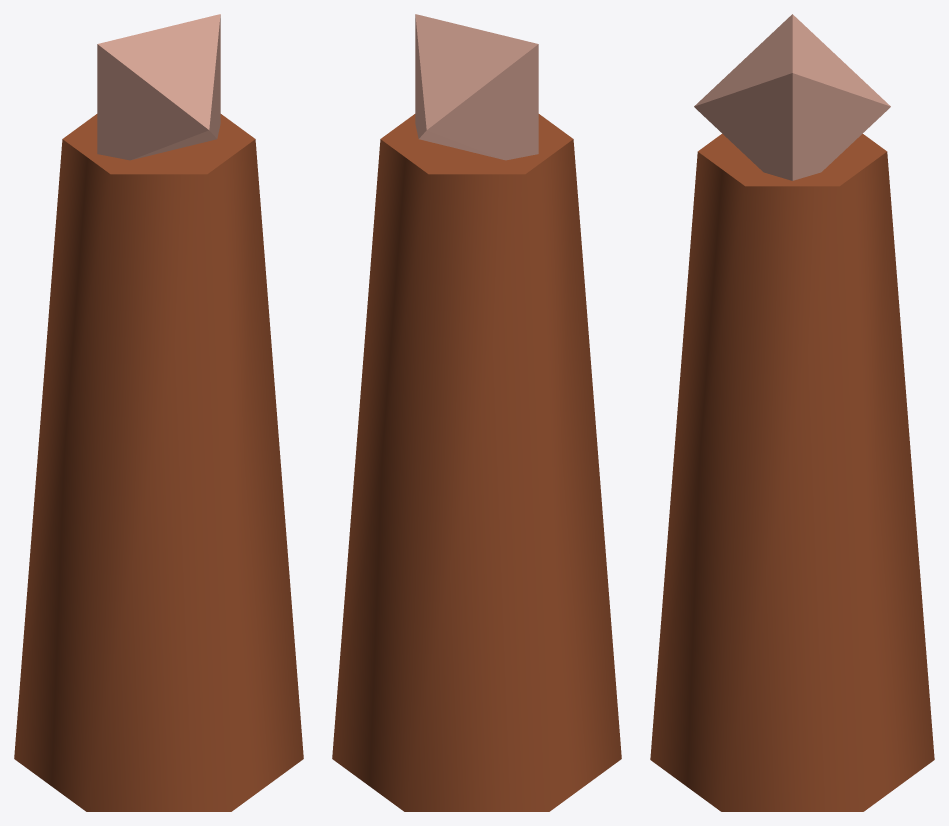
File: sun_obelisk.glb
The picture shows the model from 3 angles, left to right: view 1: azimuth 30°, elevation 25°; view 2: azimuth 150°, elevation 25°; view 3: azimuth 270°, elevation 25°; orthographic projection.
Visible parts, largest first — view 1: obelisk, emblem; view 2: obelisk, emblem; view 3: obelisk, emblem.
Boxes of the visible parts, x1,y1,x2,y2 form: obelisk: [14, 114, 303, 811]; emblem: [97, 14, 220, 160]; obelisk: [332, 114, 621, 811]; emblem: [415, 14, 538, 160]; obelisk: [650, 133, 934, 811]; emblem: [694, 14, 890, 180].
Size of what is drawn, in the model's own units: 1.25 by 4 by 1.44.
